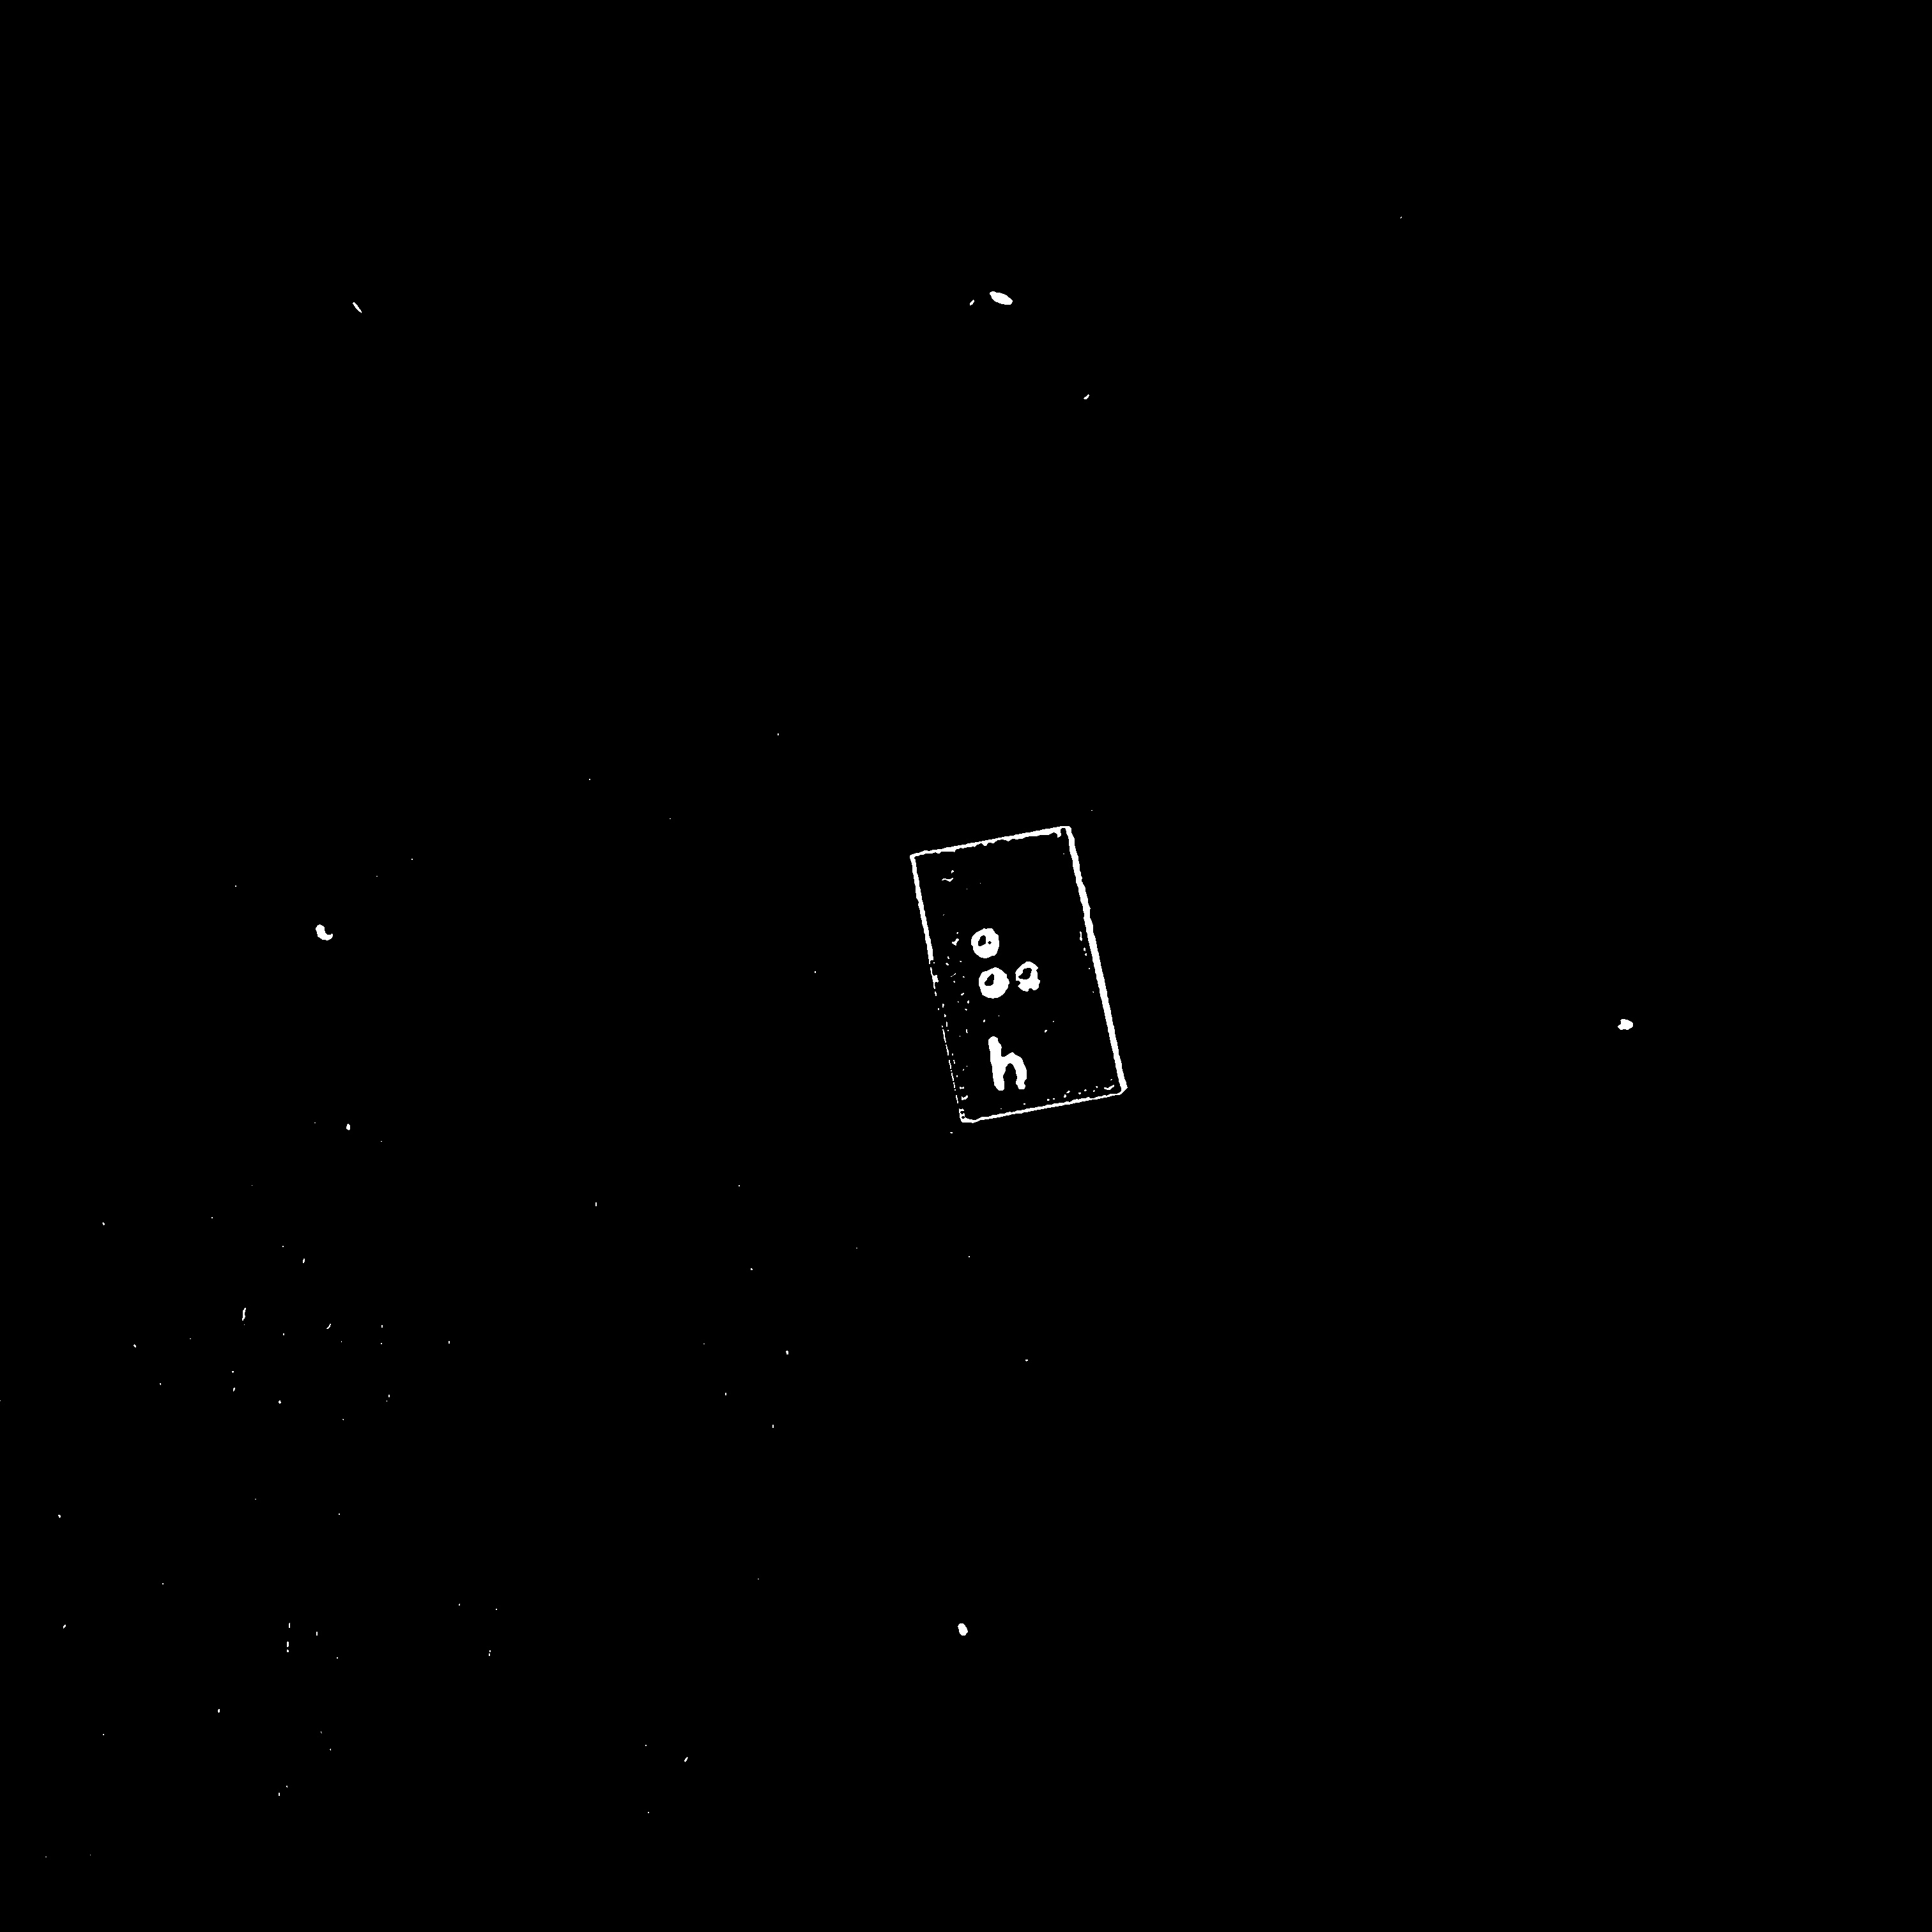h: (965, 914, 1065, 1048)
